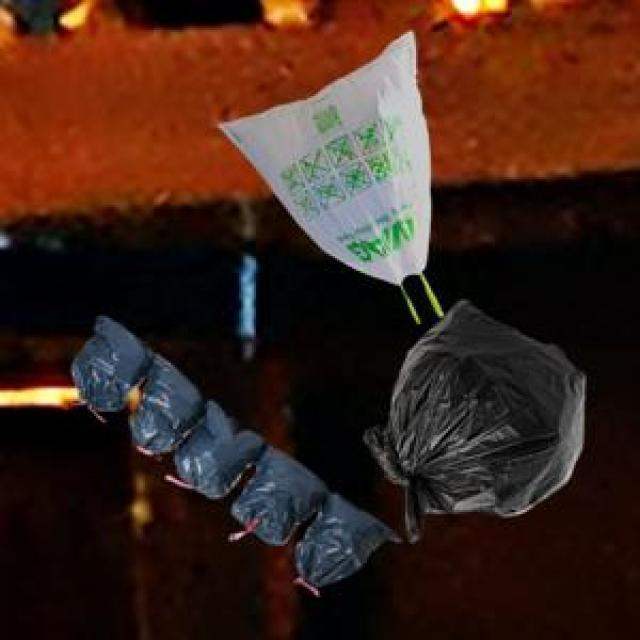miscellaneous trash: (68, 312, 397, 582), (361, 297, 580, 538)
